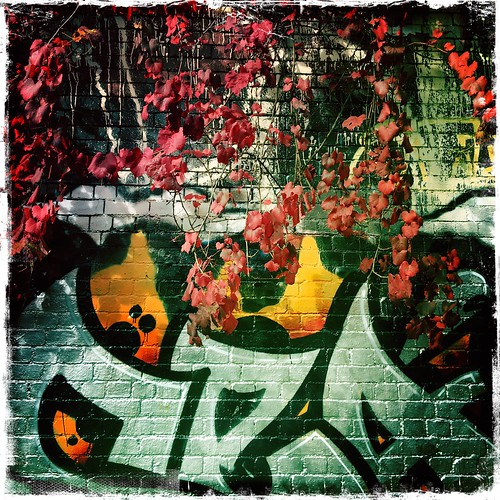graffiti: (32, 197, 500, 500)
